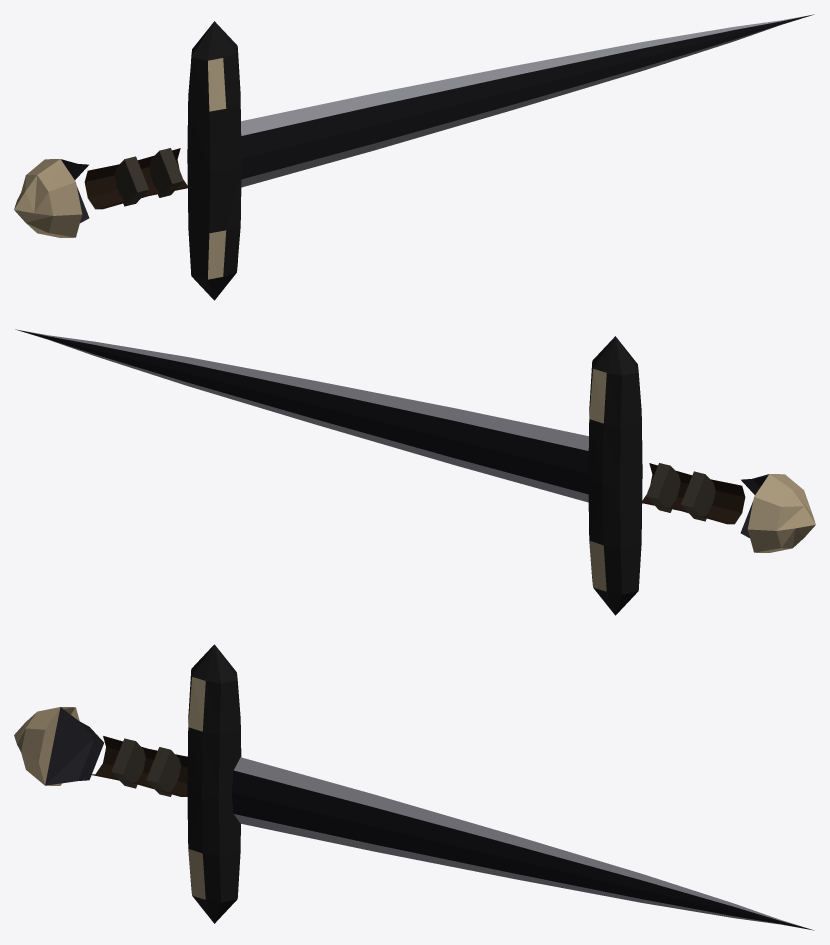
The model's file is SM_GK_OssuaryBlade.obj.
3 renders of one model, top to bottom at view 1: azimuth 30°, elevation 25°; view 2: azimuth 150°, elevation 25°; view 3: azimuth 330°, elevation 25°, orthographic.
Parts seen in each view (by area): view 1: SM_GK_OssuaryBlade; view 2: SM_GK_OssuaryBlade; view 3: SM_GK_OssuaryBlade.
Part boxes in pixels (x1,y1,x2,y2): SM_GK_OssuaryBlade: (14,14,814,300); SM_GK_OssuaryBlade: (15,329,815,615); SM_GK_OssuaryBlade: (14,644,814,930).
Bounding box in the file's own units: 138 × 46 × 13.
